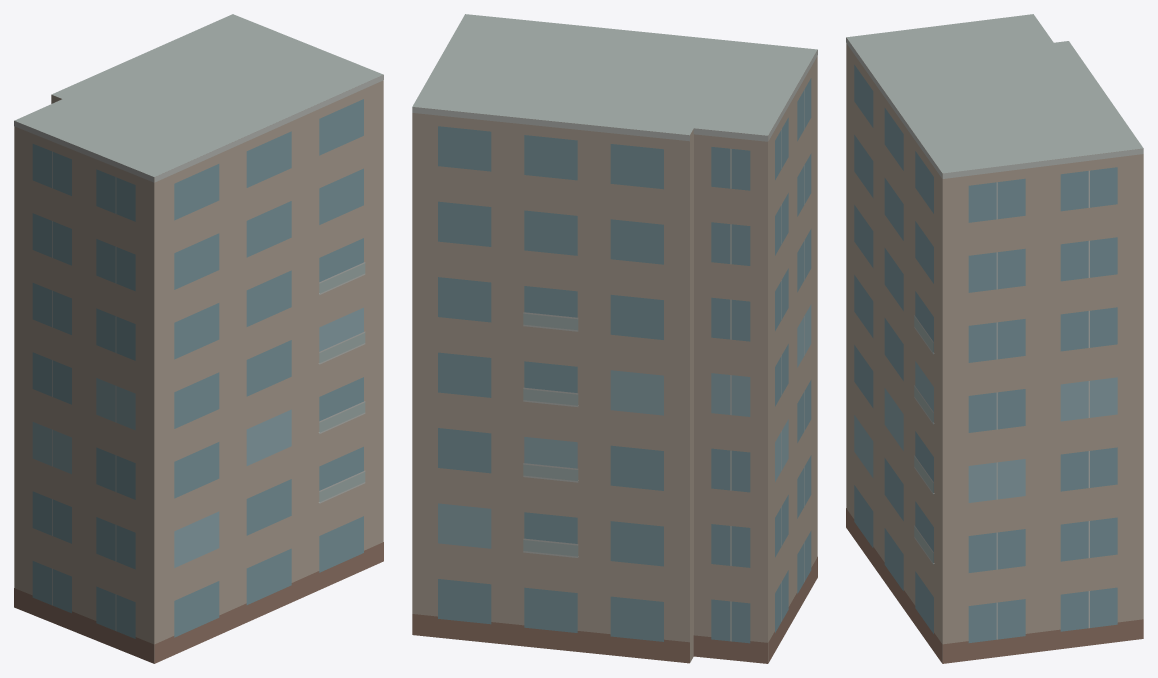
The model's file is survey-upis-32863174.glb.
The picture shows the model from 3 angles, left to right: view 1: azimuth 30°, elevation 25°; view 2: azimuth 150°, elevation 25°; view 3: azimuth 270°, elevation 25°; orthographic projection. The views are drawn at different scales.
Parts seen in each view (by area): view 1: survey-upis-32863174.tmp; view 2: survey-upis-32863174.tmp; view 3: survey-upis-32863174.tmp.
Part boxes in pixels (x1,y1,x2,y2): survey-upis-32863174.tmp: (14,14,383,663); survey-upis-32863174.tmp: (412,14,817,663); survey-upis-32863174.tmp: (846,14,1143,663).
Bounding box in the file's own units: 14.9 × 21.35 × 11.75.
